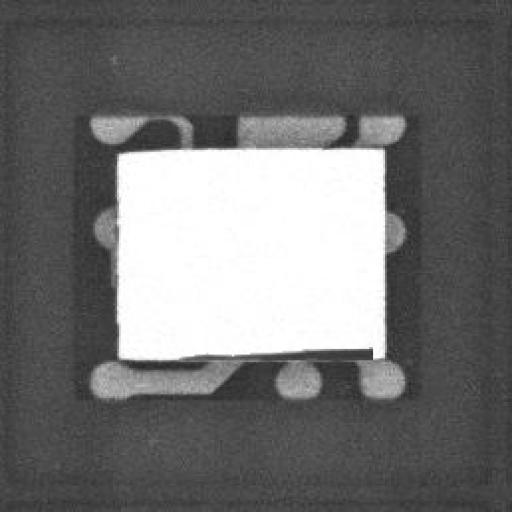DIE_BROKEN: (175, 342, 375, 360)
